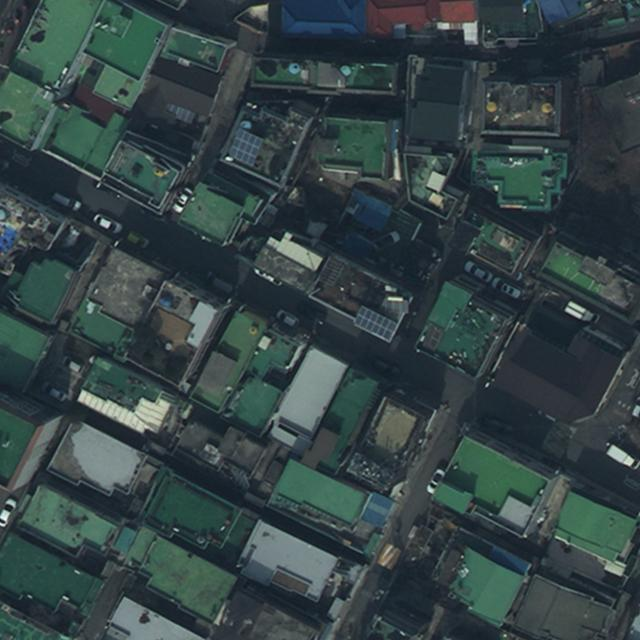panel: (352, 304, 398, 340), (228, 126, 262, 166)
